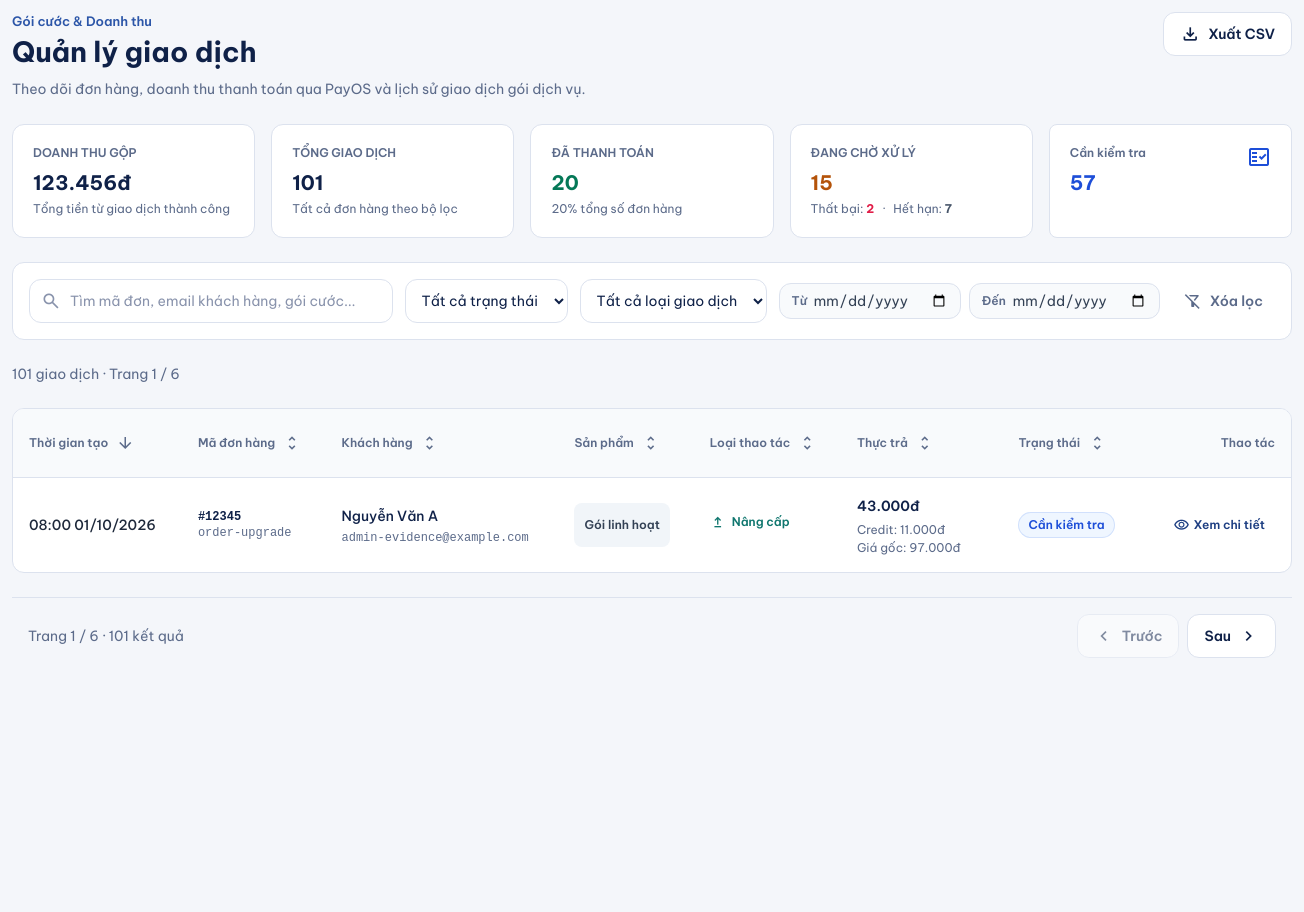
Test: FE-UP5 admin financial evidence A01-A50 › A45 over-limit export shows narrowing guidance without partial download
expect the button with aria-label "Xem chi tiết đơn hàng" is shown: met, box [1164,505,1275,545]
Click the button "Xuất CSV".
click(1228, 34)  # box [1163,12,1292,56]
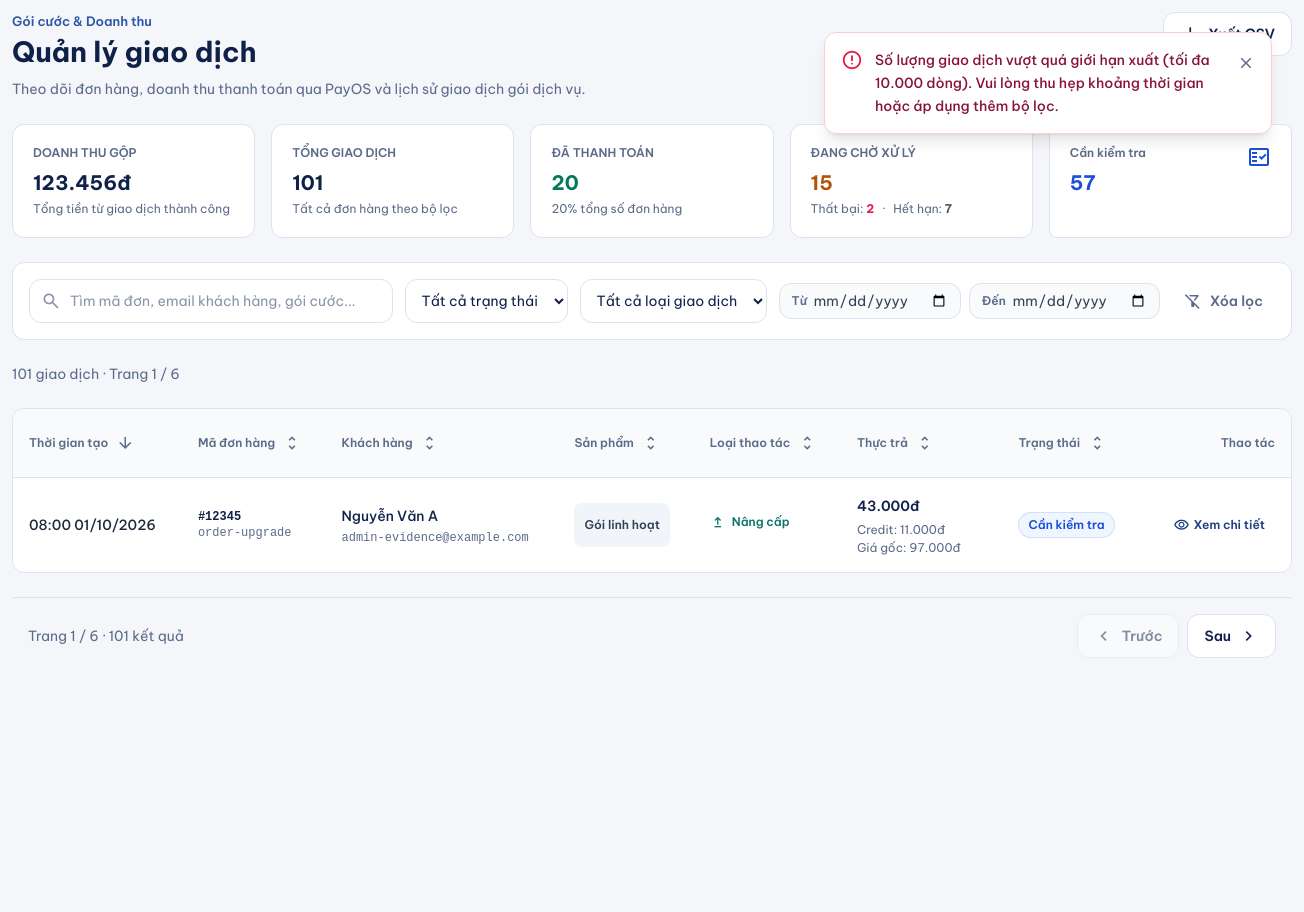
expect the 1st message shows "10.000": met, box [875,51,1210,114]
expect the 1st message shows "thu hẹp": met, box [875,51,1210,114]
